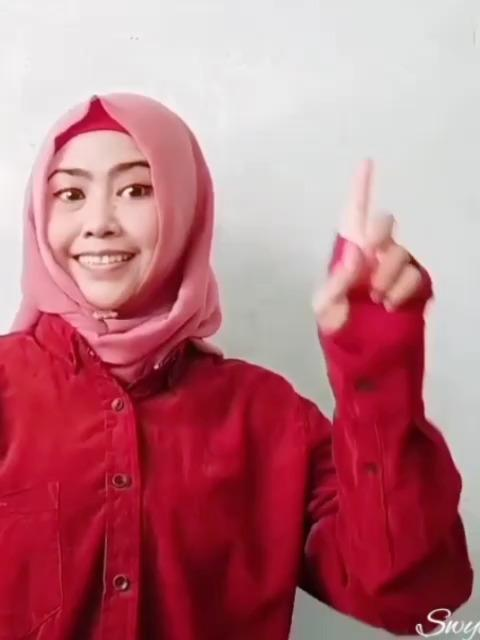X: (311, 160, 447, 370)
